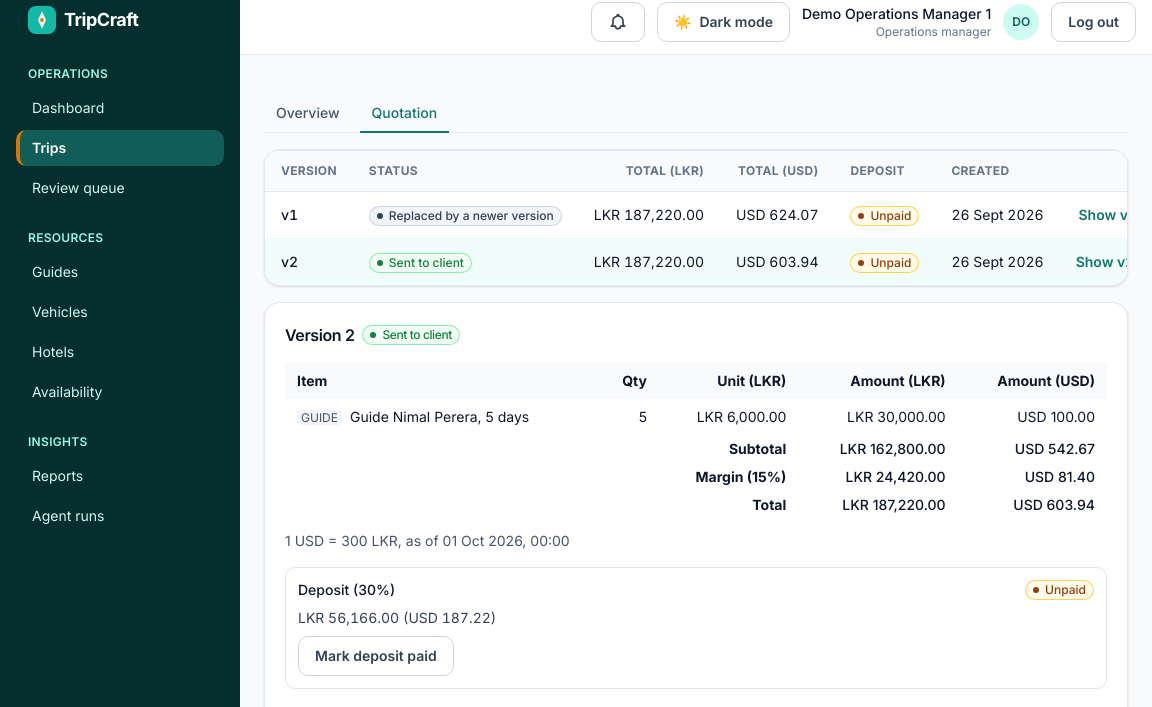
Test: Trip detail: Quotation tab › marks the deposit paid after the client accepted, then offers Mark unpaid
Click the button "Mark deposit paid".
click(376, 656)  # box 298,636 -> 454,676
(page scrolled)
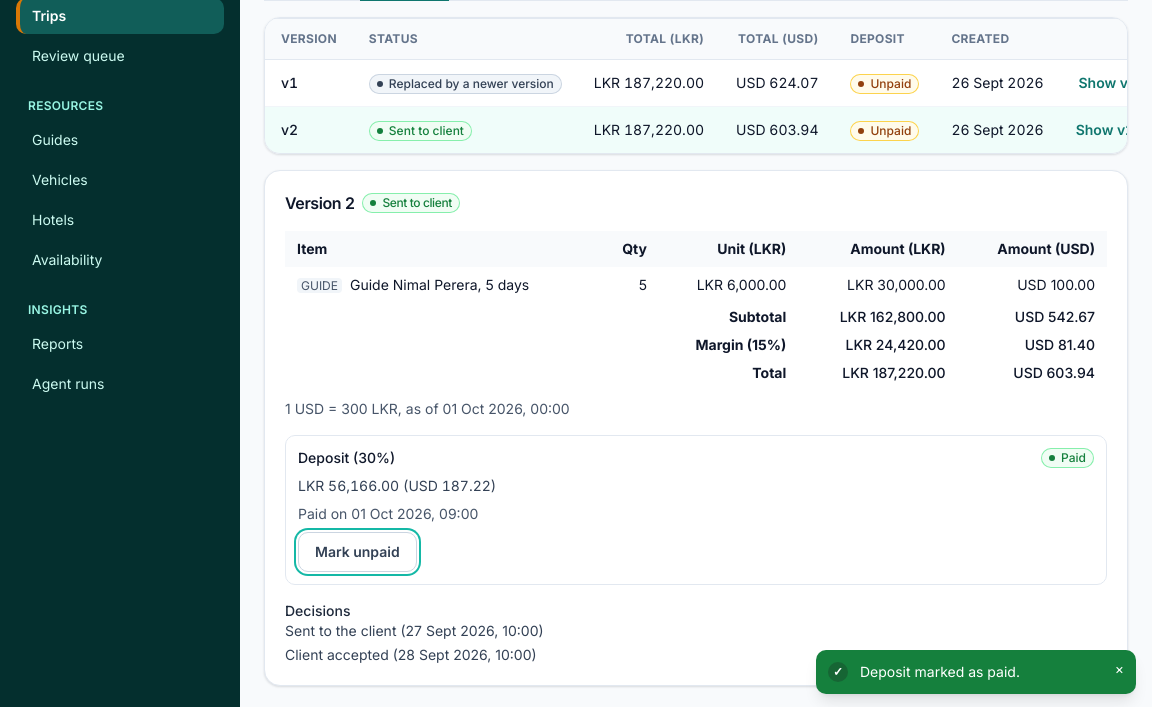
Expected: the text "Deposit marked as paid." is shown, 860,663 -> 1020,680
Expected: the button "Mark unpaid" is shown, 298,532 -> 417,572
Expected: the element "Deposit" shows "Paid on", 298,505 -> 351,522
